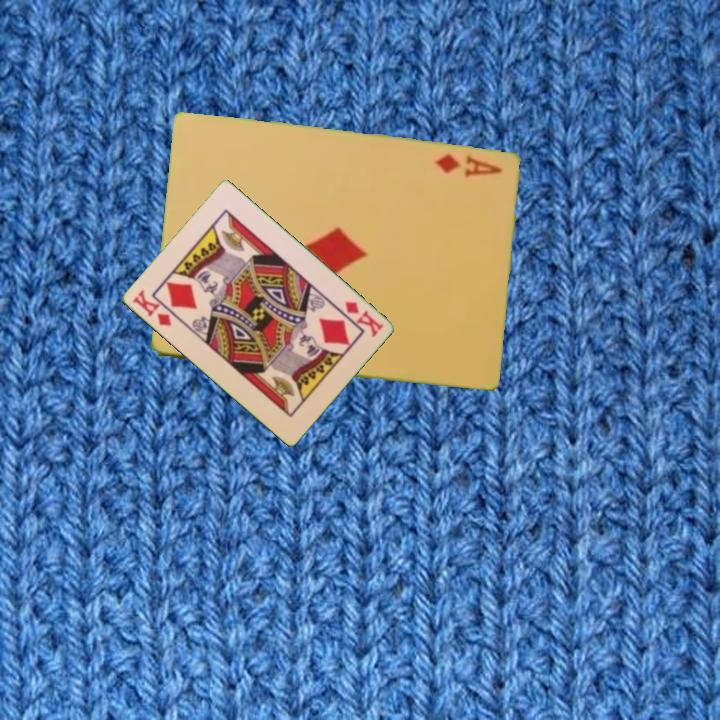Ad: (431, 150, 504, 179)
Kd: (129, 286, 181, 329), (341, 297, 386, 340)
